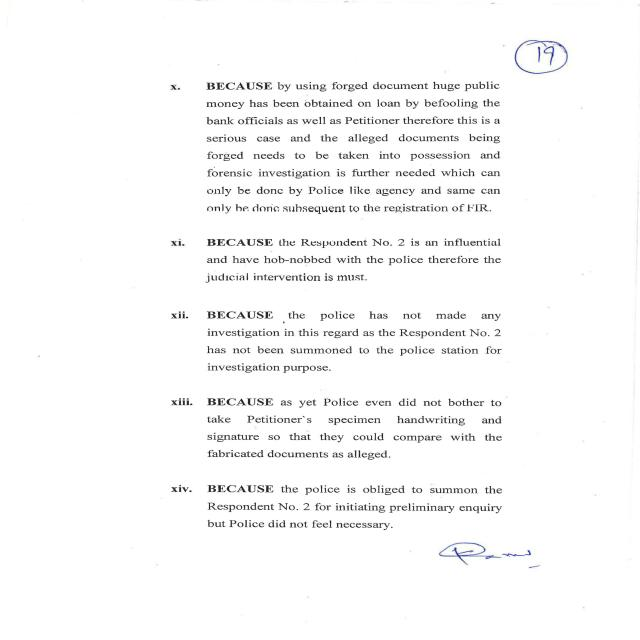page-number: (413, 2, 626, 79)
